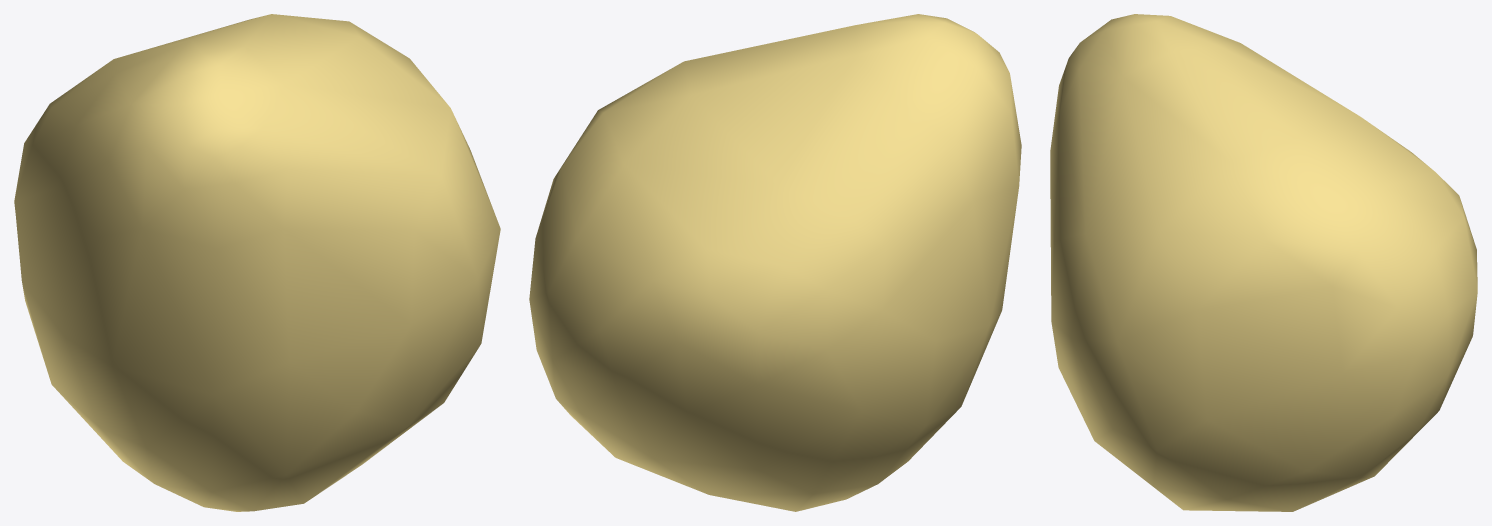
The model's file is fma74877_fj7485m.glb.
3 views of the same model, side by side, from view 1: azimuth 30°, elevation 25°; view 2: azimuth 150°, elevation 25°; view 3: azimuth 270°, elevation 25° (orthographic). The views are drawn at different scales.
Visible parts, largest first — view 1: FMA74877_FJ7485M; view 2: FMA74877_FJ7485M; view 3: FMA74877_FJ7485M.
Part boxes in pixels (x1,y1,x2,y2): FMA74877_FJ7485M: (14, 14, 500, 511); FMA74877_FJ7485M: (529, 14, 1021, 511); FMA74877_FJ7485M: (1050, 14, 1477, 511).
Size of the model in its own units: 0.00484 by 0.00567 by 0.00501.
